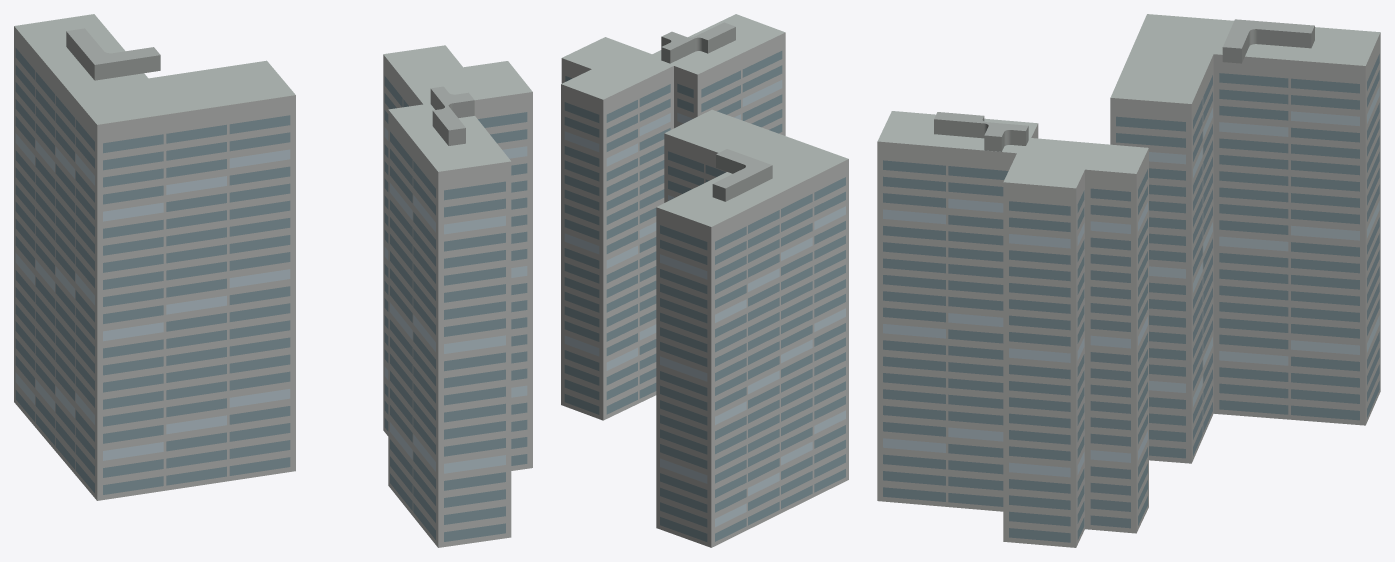
Rendered from apt-a15882107.glb.
3 renders of one model, left to right at view 1: azimuth 30°, elevation 25°; view 2: azimuth 150°, elevation 25°; view 3: azimuth 270°, elevation 25°, orthographic. The views are drawn at different scales.
Parts seen in each view (by area): view 1: apt-a15882107; view 2: apt-a15882107; view 3: apt-a15882107.
Part boxes in pixels (x1,y1,x2,y2): apt-a15882107: [14, 14, 532, 547]; apt-a15882107: [561, 14, 848, 547]; apt-a15882107: [877, 14, 1380, 547].
Bounding box in the file's own units: 59.91 × 60 × 73.04.
